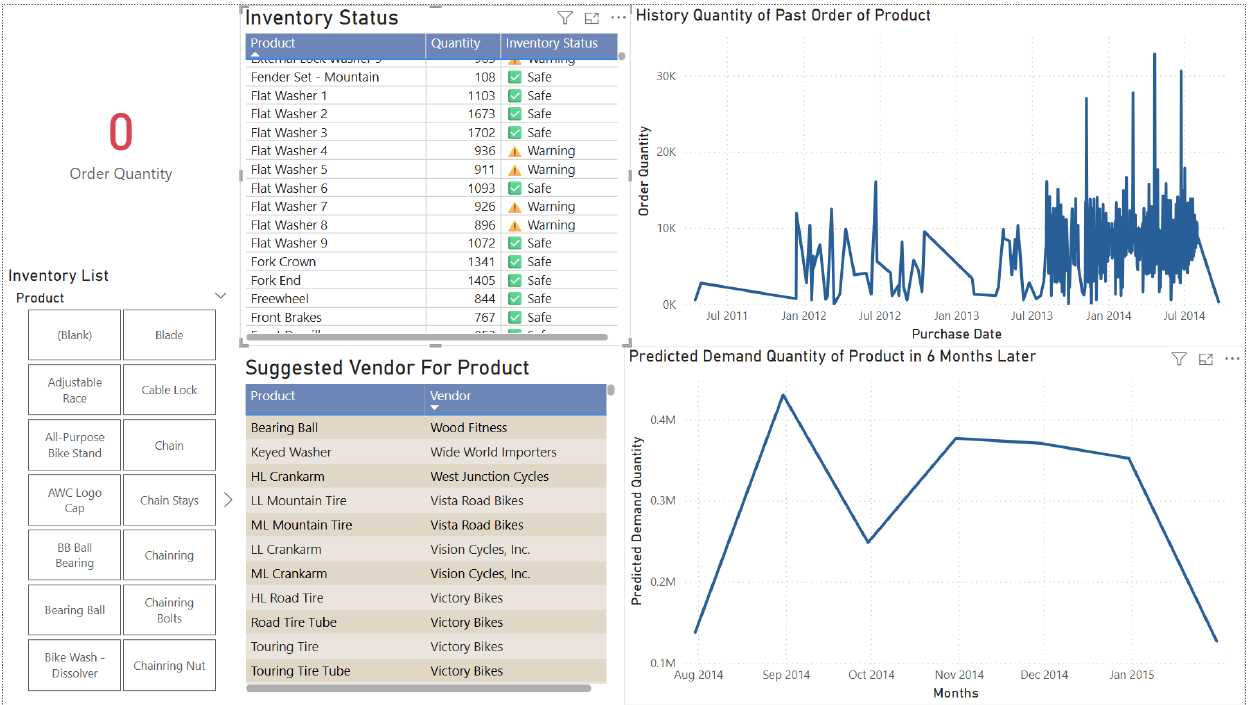

This screenshot's page, from the dashboard's own definition file:
{"tool":"powerbi","page":{"name":"Page 1","canvas":[1280,720],"ordinal":0},"visuals":[{"type":"tableEx","title":"Inventory Status","fields":{"Values":["DimProduct.ProductName","DimProduct.Quantity","DimProduct.Inventory Status"]},"box":[244,0,403,351],"z":0},{"type":"tableEx","title":"Suggested Vendor For Product","fields":{"Values":["DimProduct.ProductName","BestVendors.VendorName"]},"box":[244,360,392,352],"z":1000},{"type":"lineChart","title":"History Quantity of Past Order of Product","fields":{"Category":["DimDate.FullDateAlternateKey"],"Y":["Sum(FactMaterial.OrderQty)"]},"box":[647,0,633,351],"z":2000},{"type":"lineChart","title":"Predicted Demand Quantity of Product in 6 Months Later","fields":{"Y":["Sum(Forecast_ProductDemand.PredictedDemandQty)"],"Category":["Forecast_ProductDemand.ForecastMonth"]},"box":[640,351,640,369],"z":3000},{"type":"actionButton","box":[0,0,100,40],"z":4000},{"type":"slicer","title":"Inventory List","fields":{"Values":["DimProduct.ProductName"]},"box":[0,268,243,444],"z":5000},{"type":"card","fields":{"Values":["DimProduct.Order Quantity"]},"box":[0,0,243,268],"z":5001}]}

Visuals, with their boxes in screenshot pixels (x1, y1, x2, y2), scaled from the page's 1280x720 canvas onto the 1248x705 screenshot:
"Inventory Status" tableEx: 238/0/631/344
"Suggested Vendor For Product" tableEx: 238/352/620/697
"History Quantity of Past Order of Product" lineChart: 631/0/1247/344
"Predicted Demand Quantity of Product in 6 Months Later" lineChart: 624/344/1247/704
actionButton: 0/0/98/39
"Inventory List" slicer: 0/262/237/697
card - DimProduct.Order Quantity: 0/0/237/262
